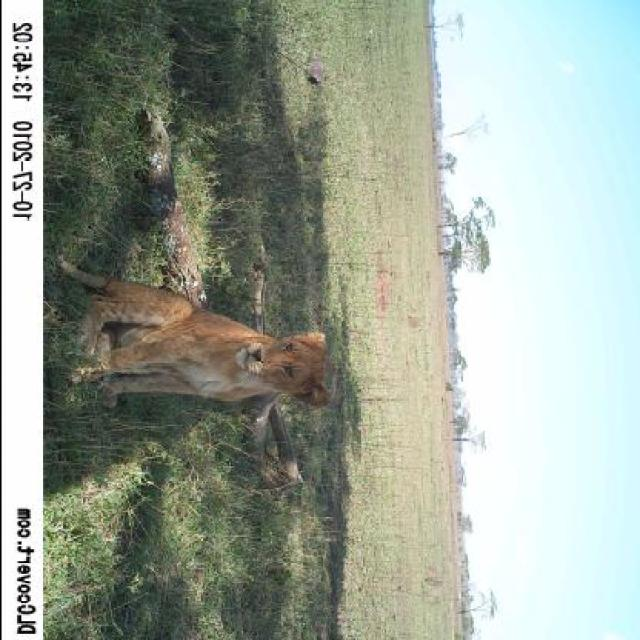Lion: (45, 245, 343, 408)
